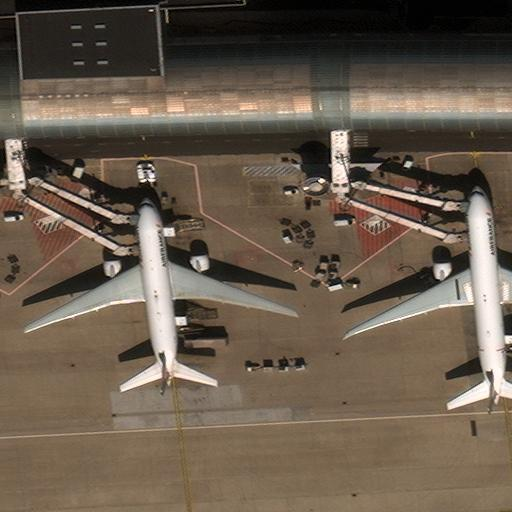Large Civil Transport: (23, 198, 294, 395), (348, 185, 511, 413)
